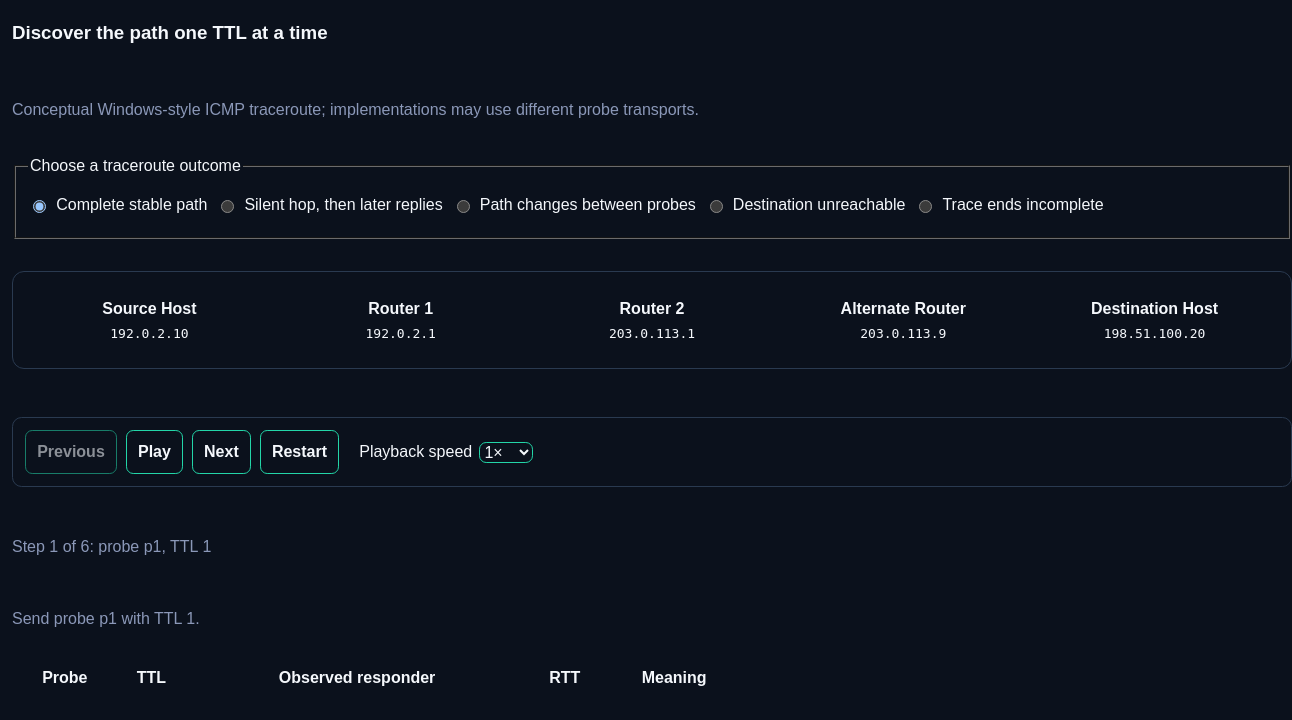
Test case: TracerouteDiscoveryPlayer › supports controls and records progress only at the terminal observation
This screenshot has width=1292, height=720.
Click the button "Next".
click(221, 452)  # box [192,430,251,474]
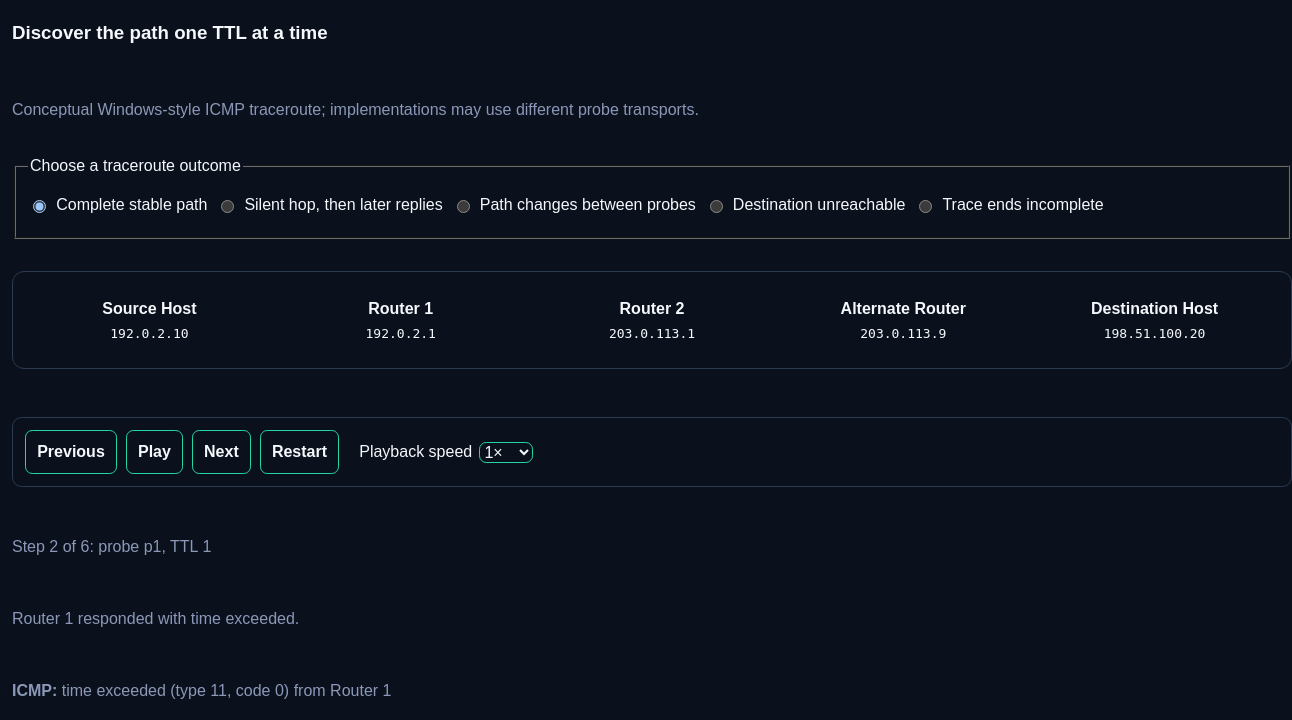
Click the button "Next".
click(221, 452)  # box [192,430,251,474]
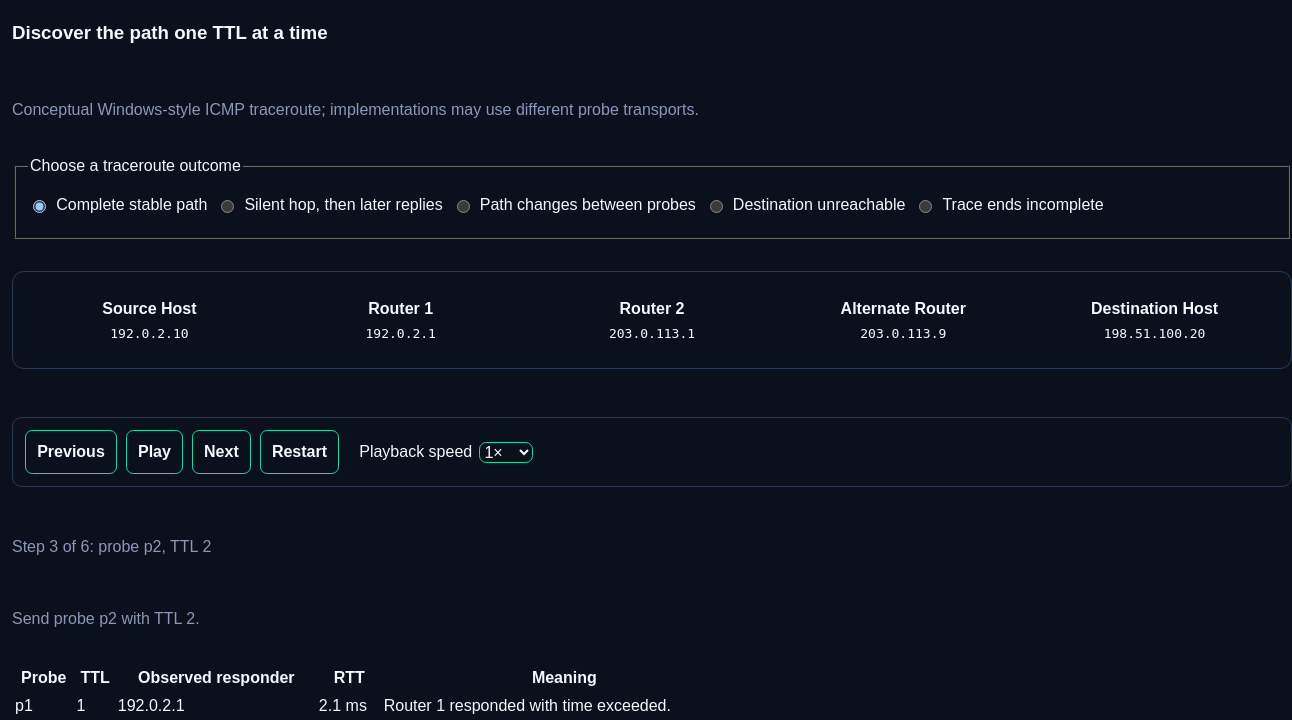
Click the button "Next".
click(221, 452)  # box [192,430,251,474]
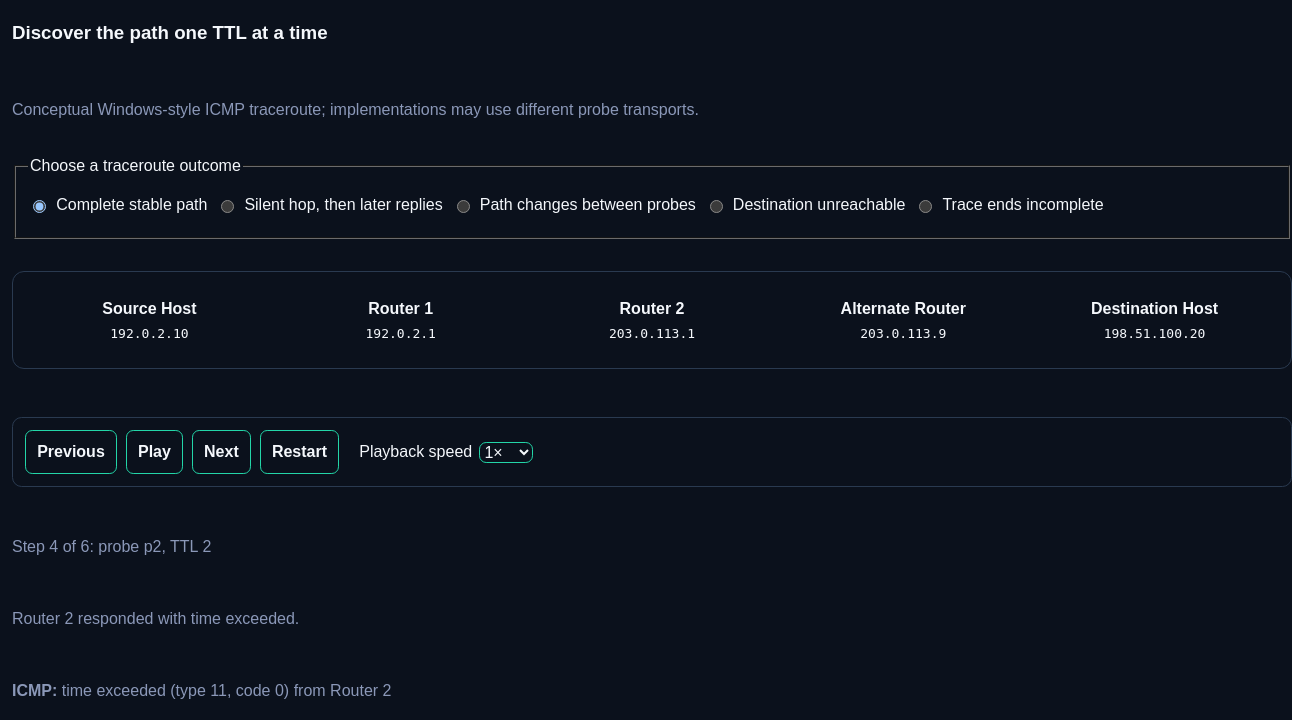
Click the button "Next".
click(221, 452)  # box [192,430,251,474]
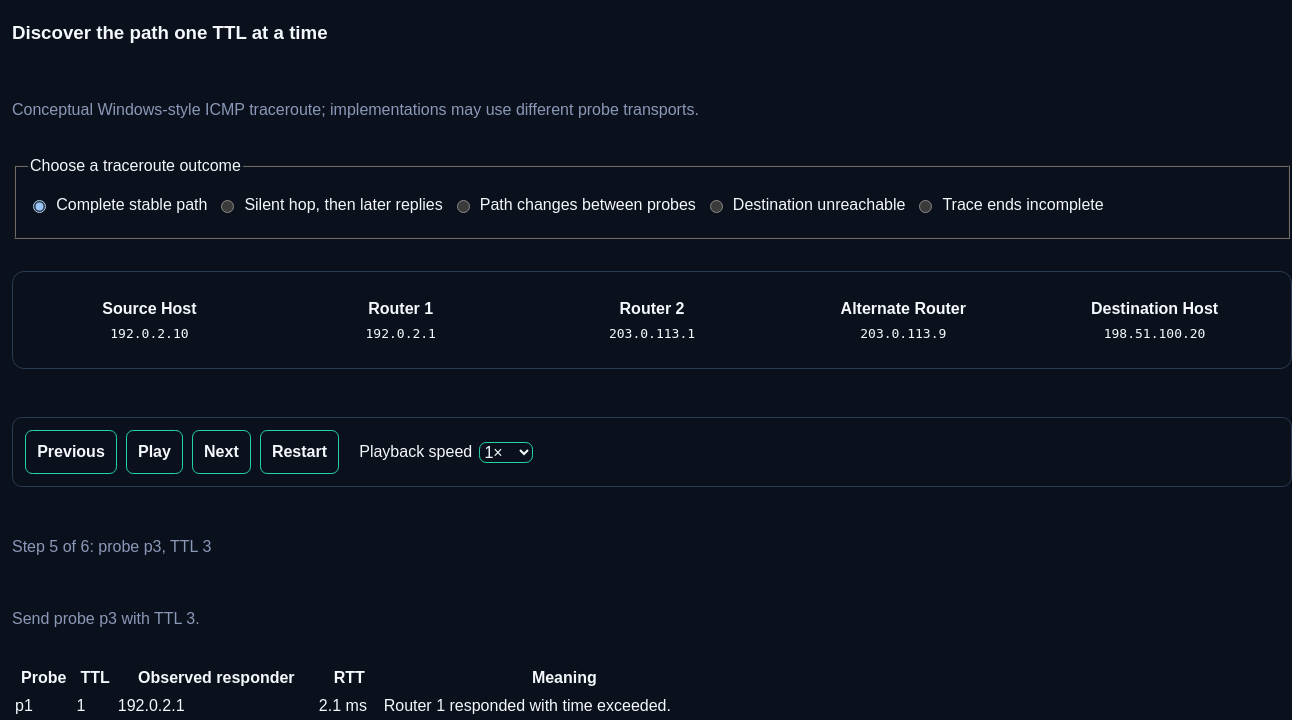
Click the button "Next".
click(221, 452)  # box [192,430,251,474]
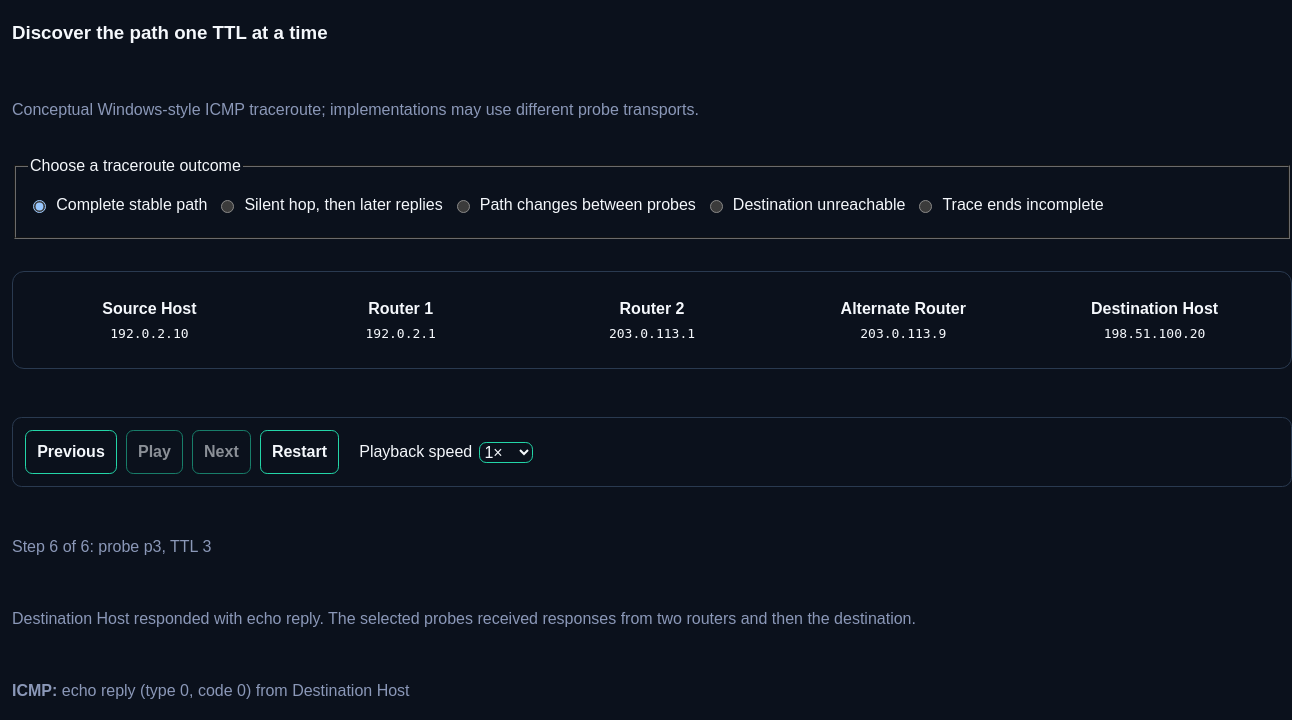
Click the button "Restart".
click(299, 452)  # box [260,430,339,474]
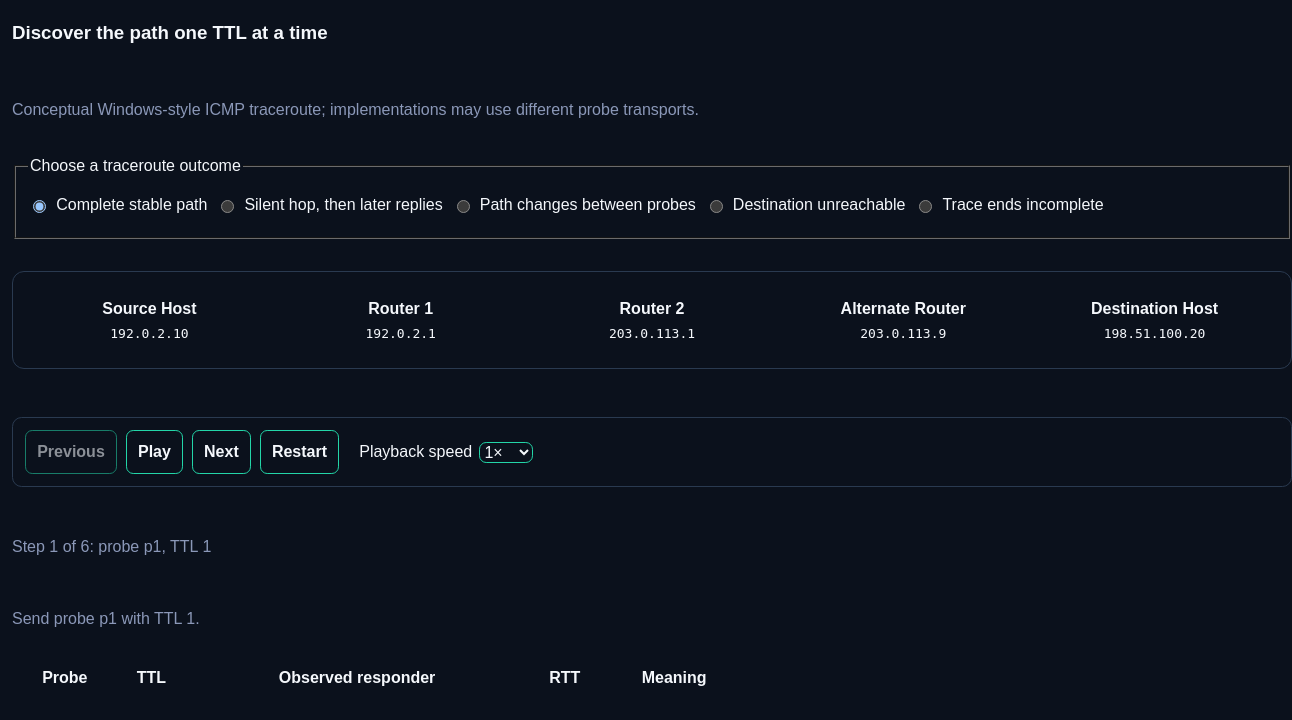
Expected: the dropdown labelled "Playback speed" is shown, [479,442,533,463]
Expected: the message shows "Step 1 of 6", [12,538,211,555]
